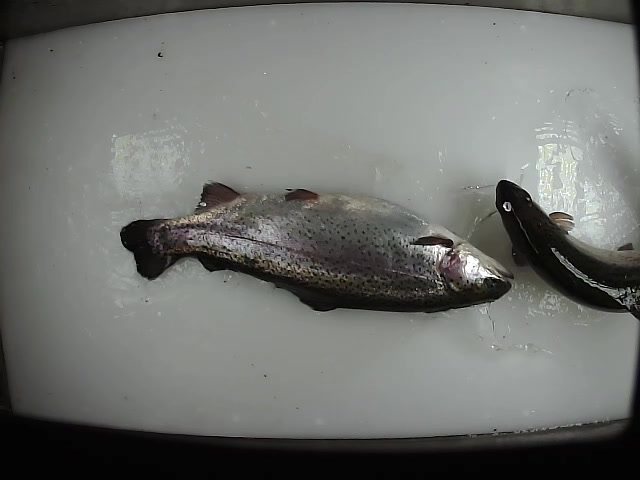Fish: (119, 182, 513, 312)
